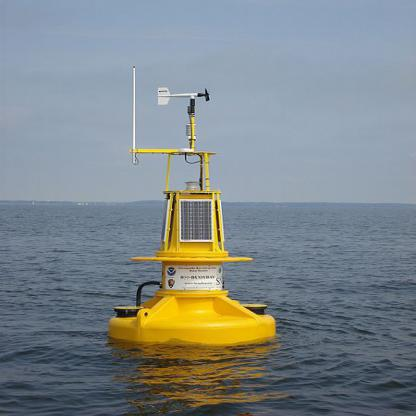buoy: (101, 56, 289, 353)
